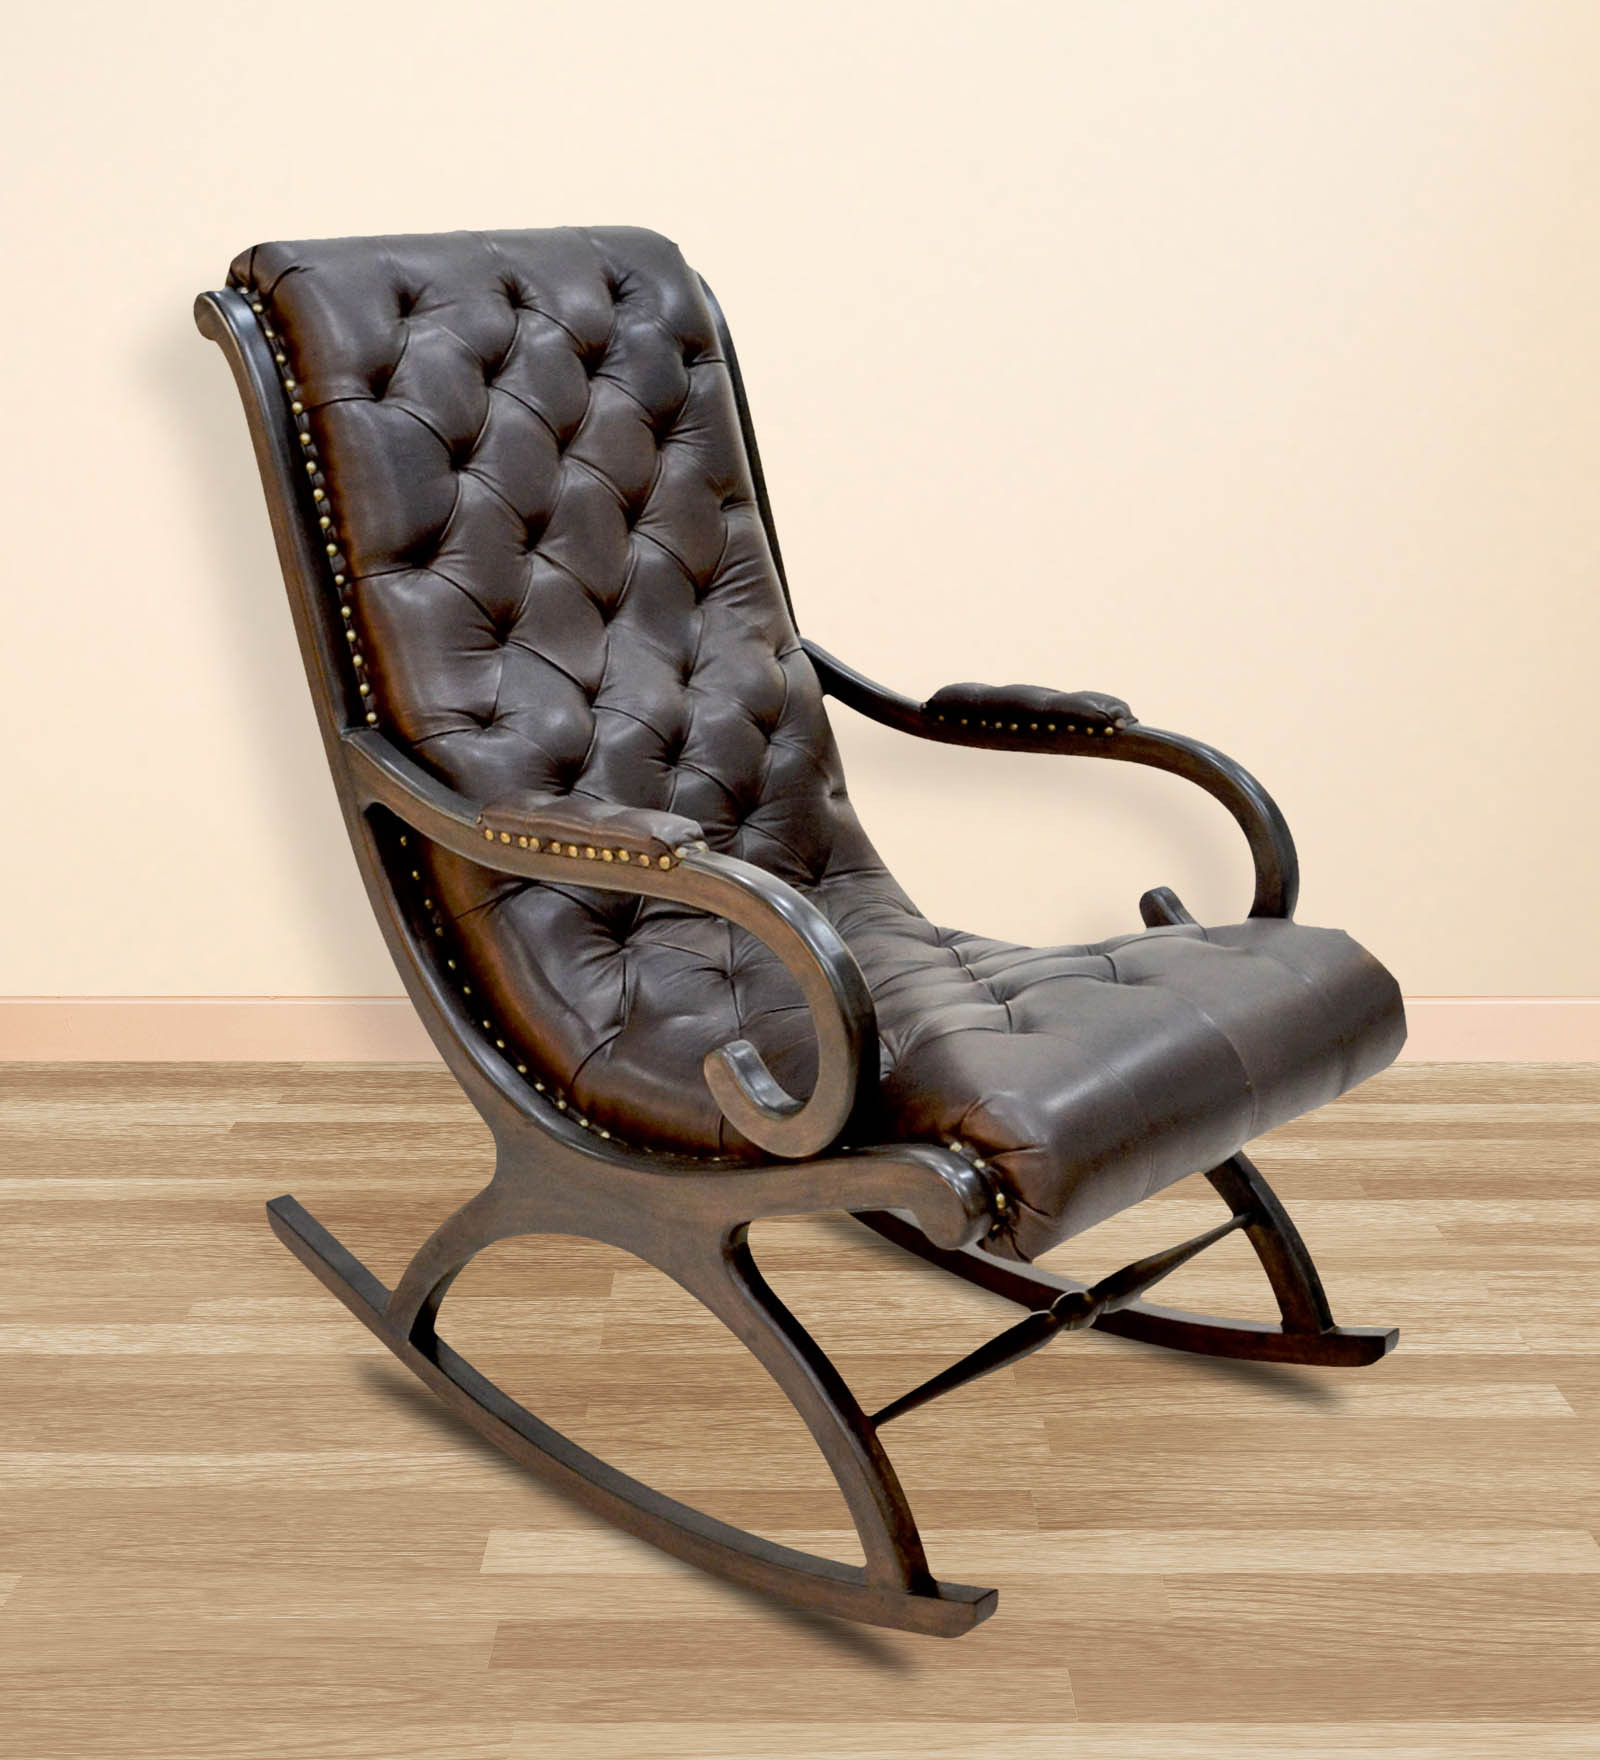Rapheal Rocking Chair in Dark Brown Pure Italian Leather by INDOORS: (116, 136, 1500, 1700)
